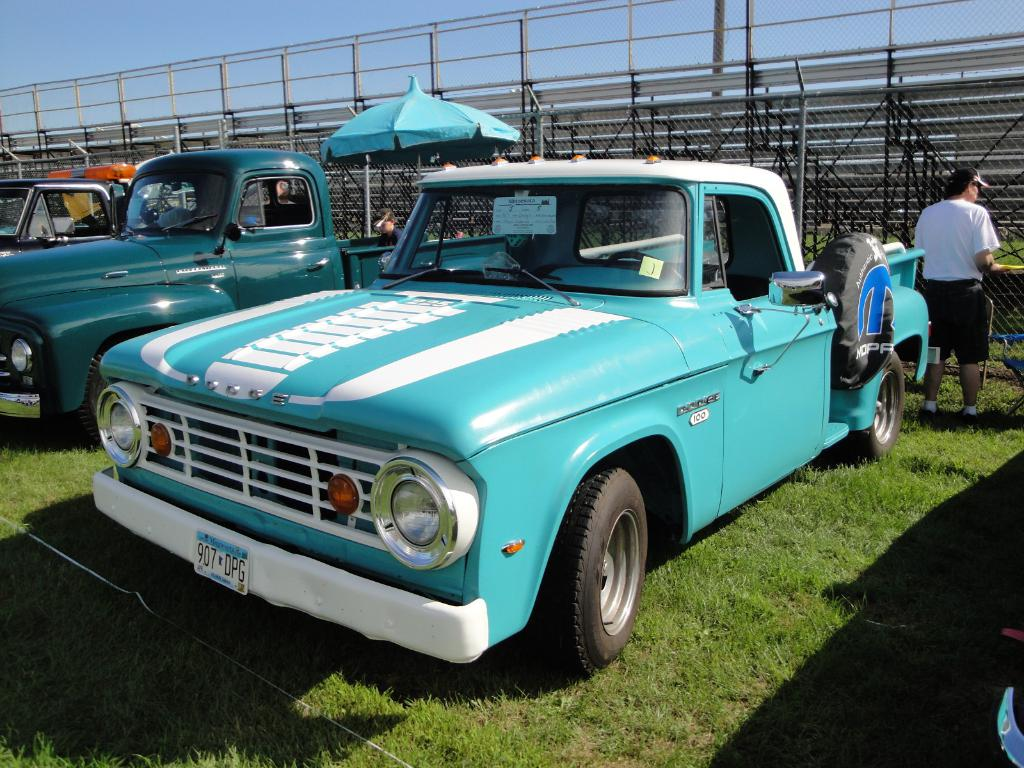Car: (84, 143, 980, 701), (0, 147, 508, 437), (0, 161, 140, 257)
